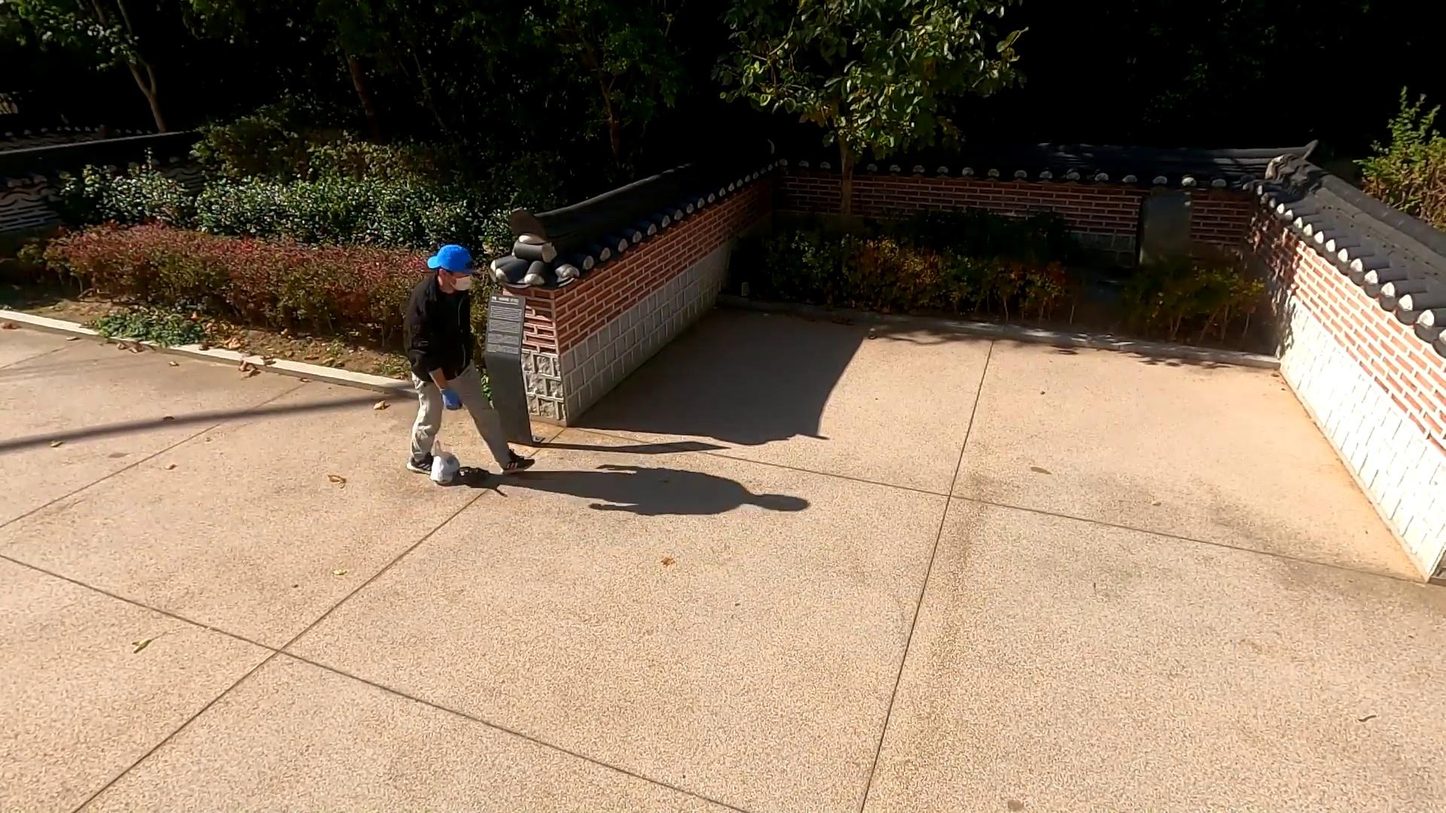person: (397, 238, 541, 495)
trash: (431, 438, 462, 487), (454, 460, 494, 489)
